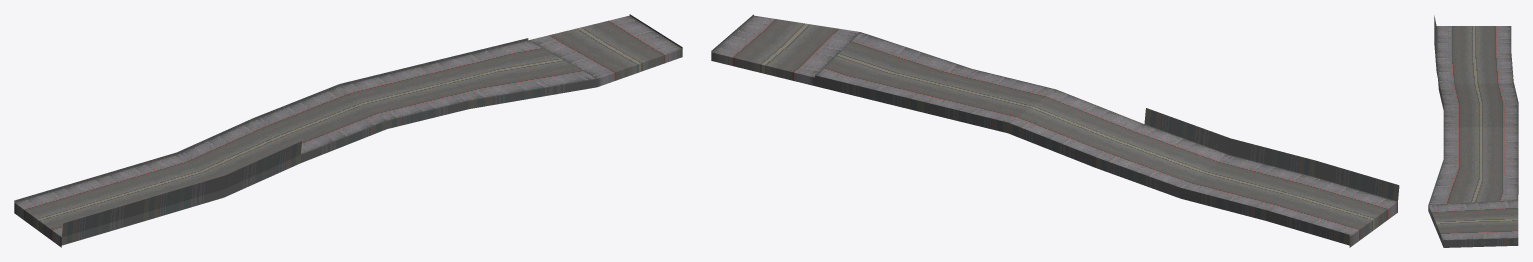
File: lodroadssfse32.obj
3 views of the same model, side by side, from view 1: azimuth 30°, elevation 25°; view 2: azimuth 150°, elevation 25°; view 3: azimuth 270°, elevation 25° (orthographic). The views are drawn at different scales.
Visible parts, largest first — view 1: LODroadsSFSE32; view 2: LODroadsSFSE32; view 3: LODroadsSFSE32.
Part boxes in pixels (left/top/right/bottom): LODroadsSFSE32: left=14, top=14, right=682, bottom=247; LODroadsSFSE32: left=711, top=14, right=1399, bottom=247; LODroadsSFSE32: left=1428, top=15, right=1518, bottom=247.
Bounding box in the file's own units: 153 × 10.64 × 24.09.
1 material, 1 textured.
